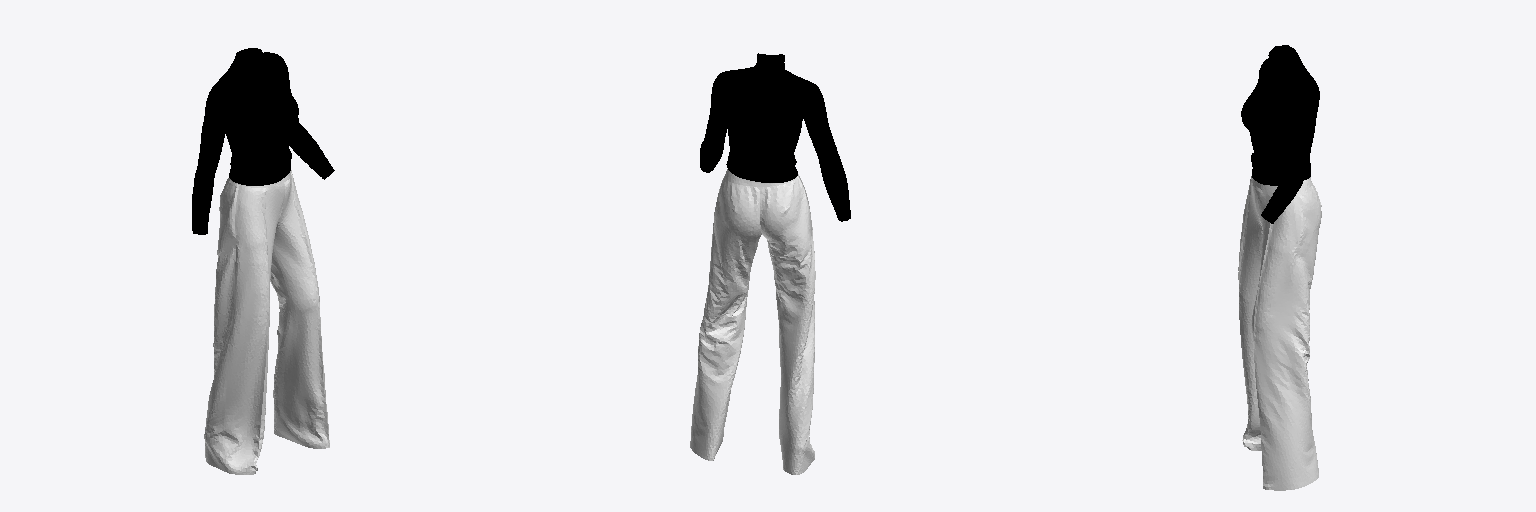
Rendered from DA_HighNeck+WidePants_0000114.obj.
The picture shows the model from 3 angles: view 1: azimuth 30°, elevation 25°; view 2: azimuth 150°, elevation 25°; view 3: azimuth 270°, elevation 25°; orthographic projection.
Size of the model in its own units: 0.6111 by 1.63 by 0.3035.